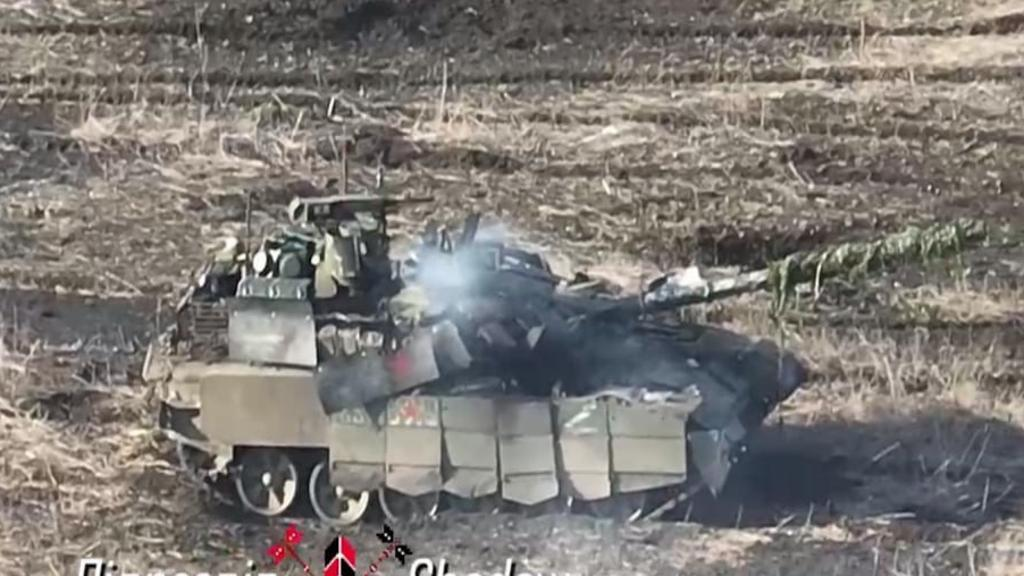TANK: (144, 184, 979, 528)
